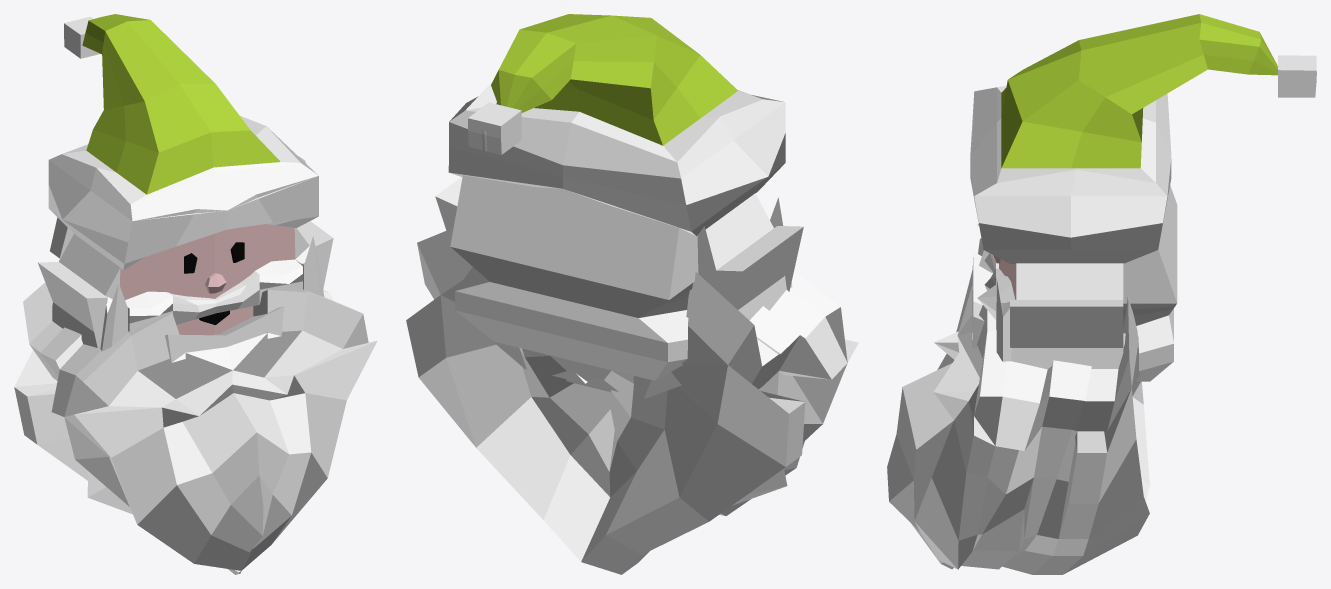
File: santaclaus_2.glb
The picture shows the model from 3 angles, left to right: view 1: azimuth 30°, elevation 25°; view 2: azimuth 150°, elevation 25°; view 3: azimuth 270°, elevation 25°; orthographic projection. The views are drawn at different scales.
Visible parts, largest first — view 1: Santa; view 2: Santa; view 3: Santa.
Part boxes in pixels (x1,y1,x2,y2): Santa: (14, 14, 377, 574); Santa: (406, 14, 858, 574); Santa: (887, 14, 1316, 574).
Size of the model in its own units: 3.55 by 5.29 by 3.73.
Materials: 1 (1 with a texture image).
